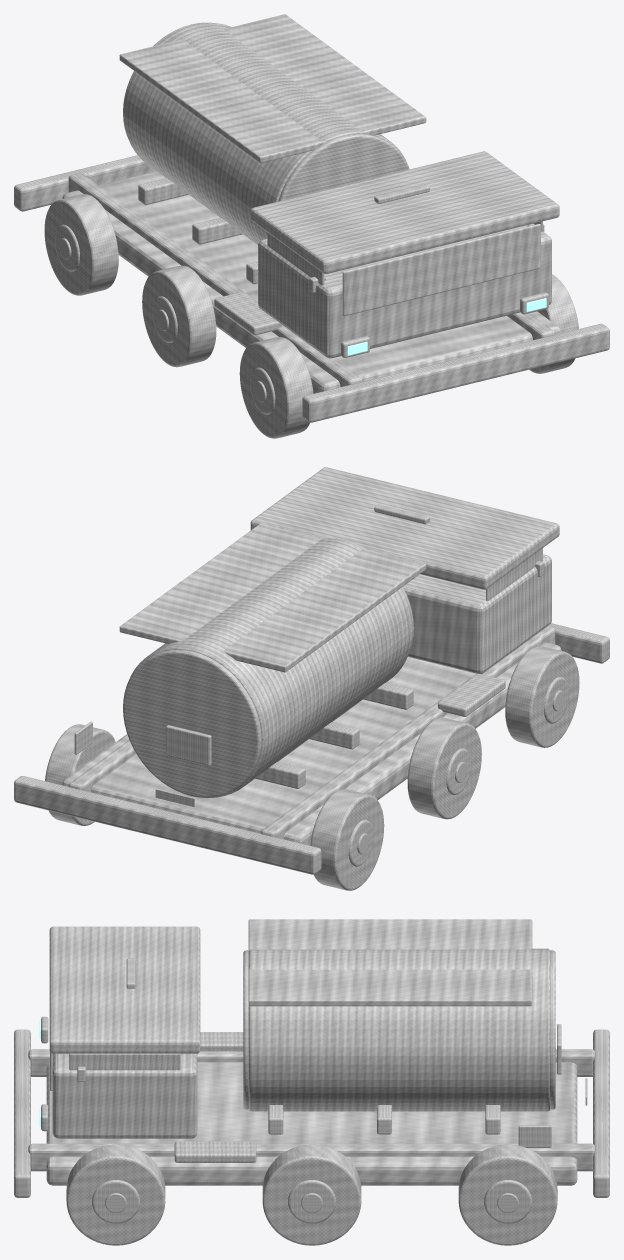
The model's file is truck_variant_d.glb.
3 views of the same model, one above another, from view 1: azimuth 30°, elevation 25°; view 2: azimuth 150°, elevation 25°; view 3: azimuth 270°, elevation 25° (orthographic).
Parts seen in each view (by area): view 1: Armored roof module, Tank service walkway.001, Single fluid tank, Heavy ladder frame.003, Modular cab lower shell, Front glass, Front bumper.003, Heavy all-terrain tire.022, Heavy all-terrain tire.020, Heavy all-terrain tire.018, Front tank cap, Longitudinal frame rail.006 (+10 smaller); view 2: Single fluid tank, Tank service walkway.001, Armored roof module, Heavy ladder frame.003, Rear tank cap, Modular cab lower shell, Rear bumper.003, Heavy all-terrain tire.018, Heavy all-terrain tire.020, Heavy all-terrain tire.022, Longitudinal frame rail.006, Heavy all-terrain tire.023 (+11 smaller); view 3: Single fluid tank, Heavy ladder frame.003, Tank service walkway.001, Armored roof module, Modular cab lower shell, Heavy all-terrain tire.019, Heavy all-terrain tire.023, Heavy all-terrain tire.021, Longitudinal frame rail.007, Front bumper.003, Rear bumper.003, Side window.003 (+12 smaller).
Part boxes in pixels (x1=…): Armored roof module: x1=250, y1=151, x2=559, y2=273; Tank service walkway.001: x1=119, y1=14, x2=426, y2=163; Single fluid tank: x1=124, y1=22, x2=406, y2=244; Heavy ladder frame.003: x1=62, y1=171, x2=561, y2=393; Modular cab lower shell: x1=258, y1=225, x2=551, y2=358; Front glass: x1=342, y1=224, x2=540, y2=316; Front bumper.003: x1=302, y1=323, x2=609, y2=422; Heavy all-terrain tire.022: x1=44, y1=194, x2=118, y2=295; Heavy all-terrain tire.020: x1=142, y1=265, x2=216, y2=367; Heavy all-terrain tire.018: x1=239, y1=337, x2=313, y2=438; Front tank cap: x1=278, y1=133, x2=409, y2=201; Longitudinal frame rail.006: x1=68, y1=173, x2=362, y2=386; Single fluid tank: x1=130, y1=538, x2=412, y2=797; Tank service walkway.001: x1=119, y1=523, x2=426, y2=672; Armored roof module: x1=250, y1=467, x2=559, y2=589; Heavy ladder frame.003: x1=62, y1=642, x2=561, y2=845; Rear tank cap: x1=123, y1=649, x2=261, y2=798; Modular cab lower shell: x1=403, y1=554, x2=551, y2=673; Rear bumper.003: x1=14, y1=776, x2=321, y2=874; Heavy all-terrain tire.018: x1=505, y1=646, x2=579, y2=747; Heavy all-terrain tire.020: x1=407, y1=717, x2=481, y2=819; Heavy all-terrain tire.022: x1=310, y1=789, x2=384, y2=890; Longitudinal frame rail.006: x1=261, y1=626, x2=555, y2=838; Heavy all-terrain tire.023: x1=45, y1=724, x2=115, y2=825; Single fluid tank: x1=248, y1=948, x2=549, y2=1111; Heavy ladder frame.003: x1=46, y1=1062, x2=577, y2=1185; Tank service walkway.001: x1=248, y1=919, x2=532, y2=1006; Armored roof module: x1=49, y1=926, x2=200, y2=1053; Modular cab lower shell: x1=52, y1=1053, x2=197, y2=1138; Heavy all-terrain tire.019: x1=66, y1=1144, x2=165, y2=1245; Heavy all-terrain tire.023: x1=458, y1=1144, x2=557, y2=1245; Heavy all-terrain tire.021: x1=262, y1=1144, x2=361, y2=1245; Longitudinal frame rail.007: x1=28, y1=1143, x2=595, y2=1171; Front bumper.003: x1=14, y1=1029, x2=30, y2=1197; Rear bumper.003: x1=593, y1=1029, x2=609, y2=1197; Side window.003: x1=69, y1=1053, x2=180, y2=1070.
Size of what is drawn, in the model's own units: 5.8 by 4 by 9.88.
Materials: 8 (8 with a texture image).
